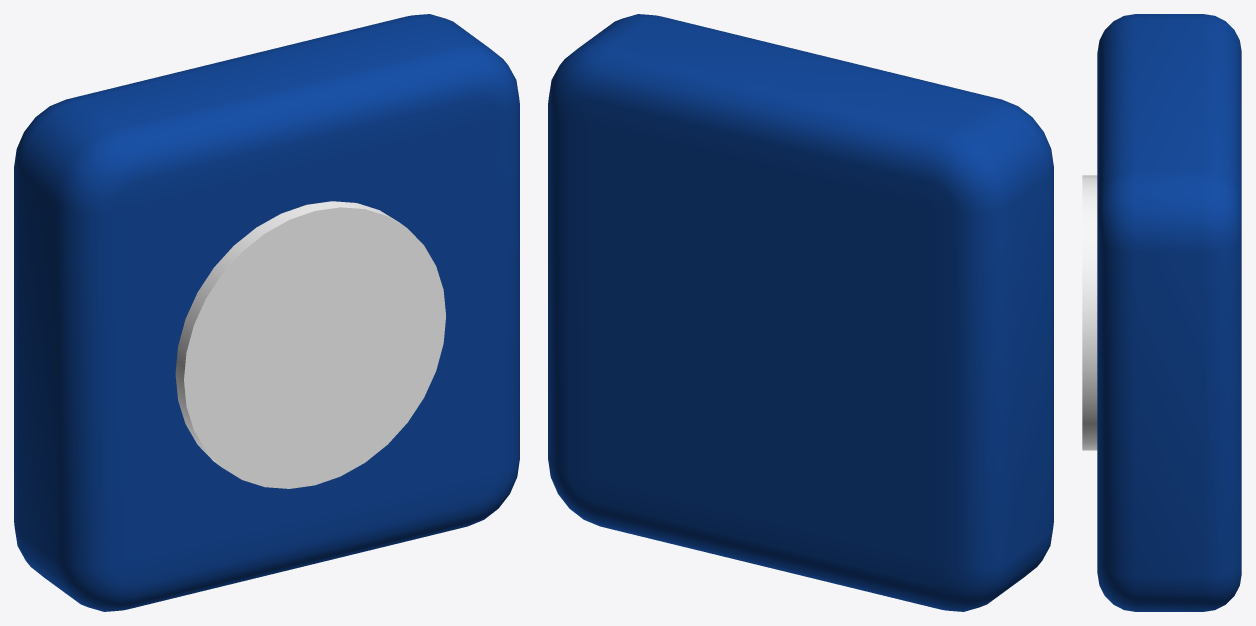
Rendered from record_button.gltf.
3 renders of one model, left to right at view 1: azimuth 30°, elevation 25°; view 2: azimuth 150°, elevation 25°; view 3: azimuth 270°, elevation 25°, orthographic. The views are drawn at different scales.
Visible parts, largest first — view 1: Cube.6432; view 2: Cube.6432; view 3: Cube.6432.
Boxes of the visible parts, x1=… form: Cube.6432: x1=14, y1=14, x2=519, y2=611; Cube.6432: x1=548, y1=14, x2=1053, y2=611; Cube.6432: x1=1082, y1=14, x2=1241, y2=611.
Bounding box in the file's own units: 2.2 × 2.2 × 0.73.
Materials: 1 (1 with a texture image).
